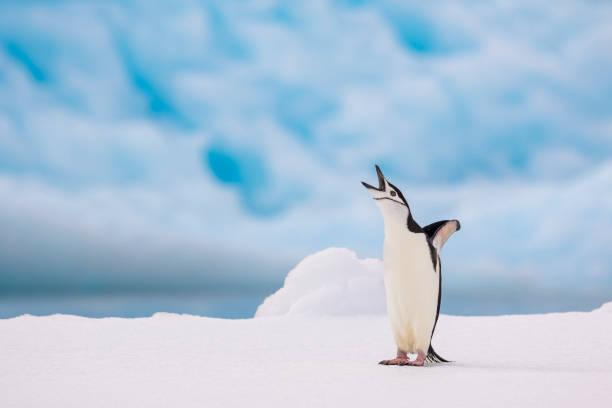chinstrap: (333, 157, 498, 378)
